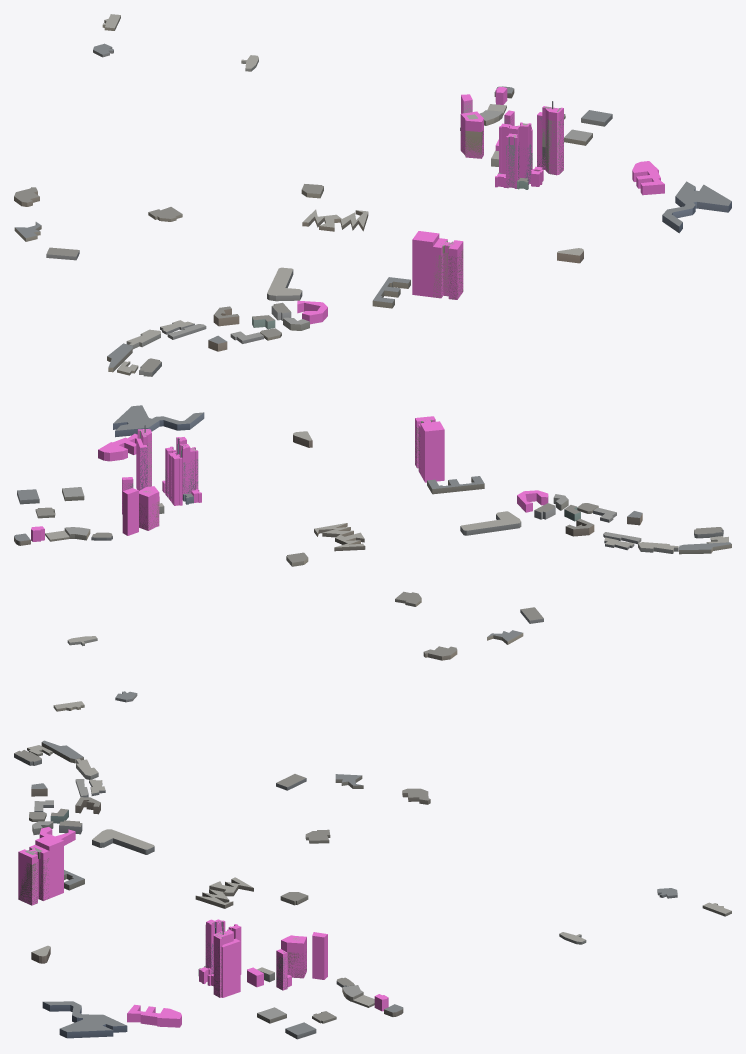
The model's file is bld_7_4.fbx.
3 renders of one model, top to bottom at view 1: azimuth 30°, elevation 25°; view 2: azimuth 150°, elevation 25°; view 3: azimuth 270°, elevation 25°, orthographic. The views are drawn at different scales.
Visible parts, largest first — view 1: bld_7_4_LOD0, bld_7_4_COL; view 2: bld_7_4_LOD0, bld_7_4_COL; view 3: bld_7_4_LOD0, bld_7_4_COL.
Part boxes in pixels (x1,y1,x2,y2): bld_7_4_LOD0: (14,14,731,376); bld_7_4_COL: (297,87,664,324); bld_7_4_LOD0: (14,405,731,711); bld_7_4_COL: (31,416,548,541); bld_7_4_LOD0: (14,740,731,1039); bld_7_4_COL: (18,827,388,1027).
Size of what is drawn, in the model's own units: 2005 by 210 by 2063.
